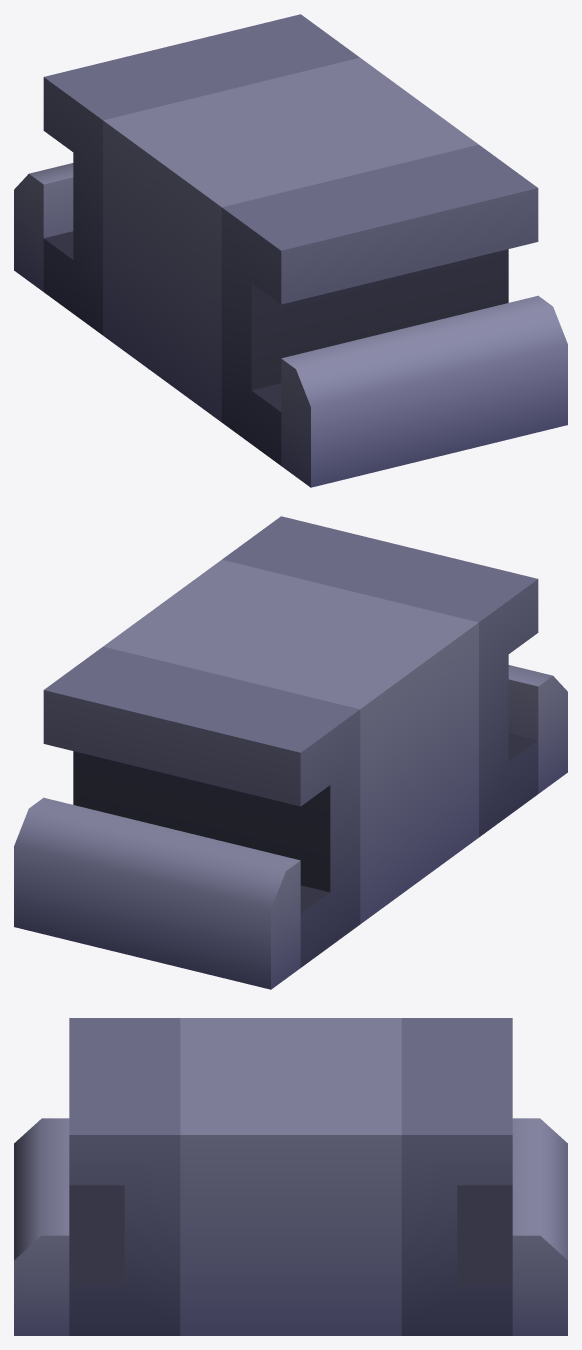
File: conveyor-long-stripe-sides-part-middle.glb
The picture shows the model from 3 angles, top to bottom: view 1: azimuth 30°, elevation 25°; view 2: azimuth 150°, elevation 25°; view 3: azimuth 270°, elevation 25°; orthographic projection. The views are drawn at different scales.
Visible parts, largest first — view 1: conveyor-long-stripe-sides-part-middle; view 2: conveyor-long-stripe-sides-part-middle; view 3: conveyor-long-stripe-sides-part-middle.
Part boxes in pixels (x1=…): conveyor-long-stripe-sides-part-middle: x1=14, y1=14, x2=567, y2=487; conveyor-long-stripe-sides-part-middle: x1=14, y1=516, x2=567, y2=989; conveyor-long-stripe-sides-part-middle: x1=14, y1=1018, x2=567, y2=1335.
Size of the model in its own units: 0.5 by 0.4 by 1.
